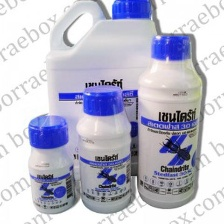insecticide: (42, 0, 168, 184), (132, 30, 209, 213), (73, 81, 134, 217), (23, 114, 78, 216)
